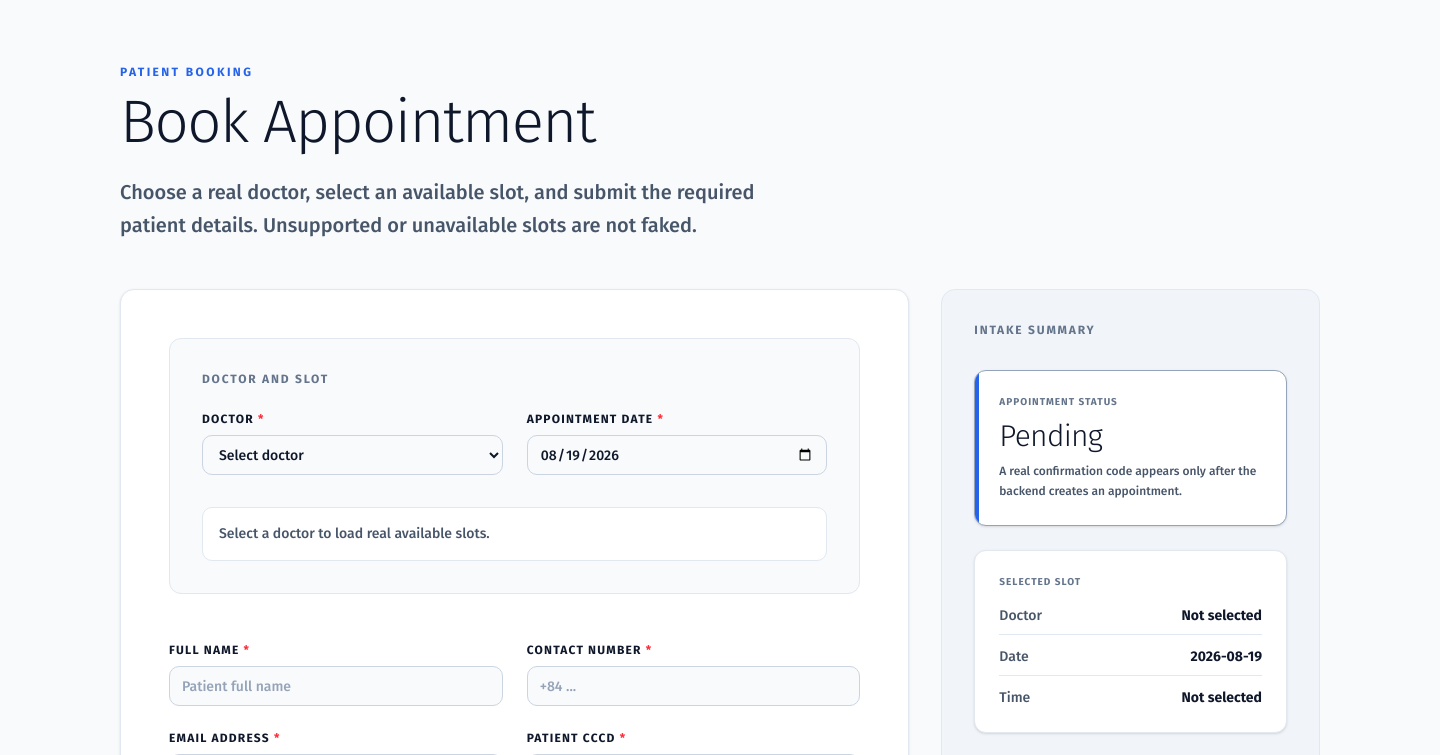
PublicBookingPage › shows default slot loading errors for non-error rejections
The image size is (1440, 755).
Select "Dr. Lan Tran - Cardiology" in the dropdown labelled "Doctor *" at (352, 455), box [202,435,503,475]
(page scrolled)
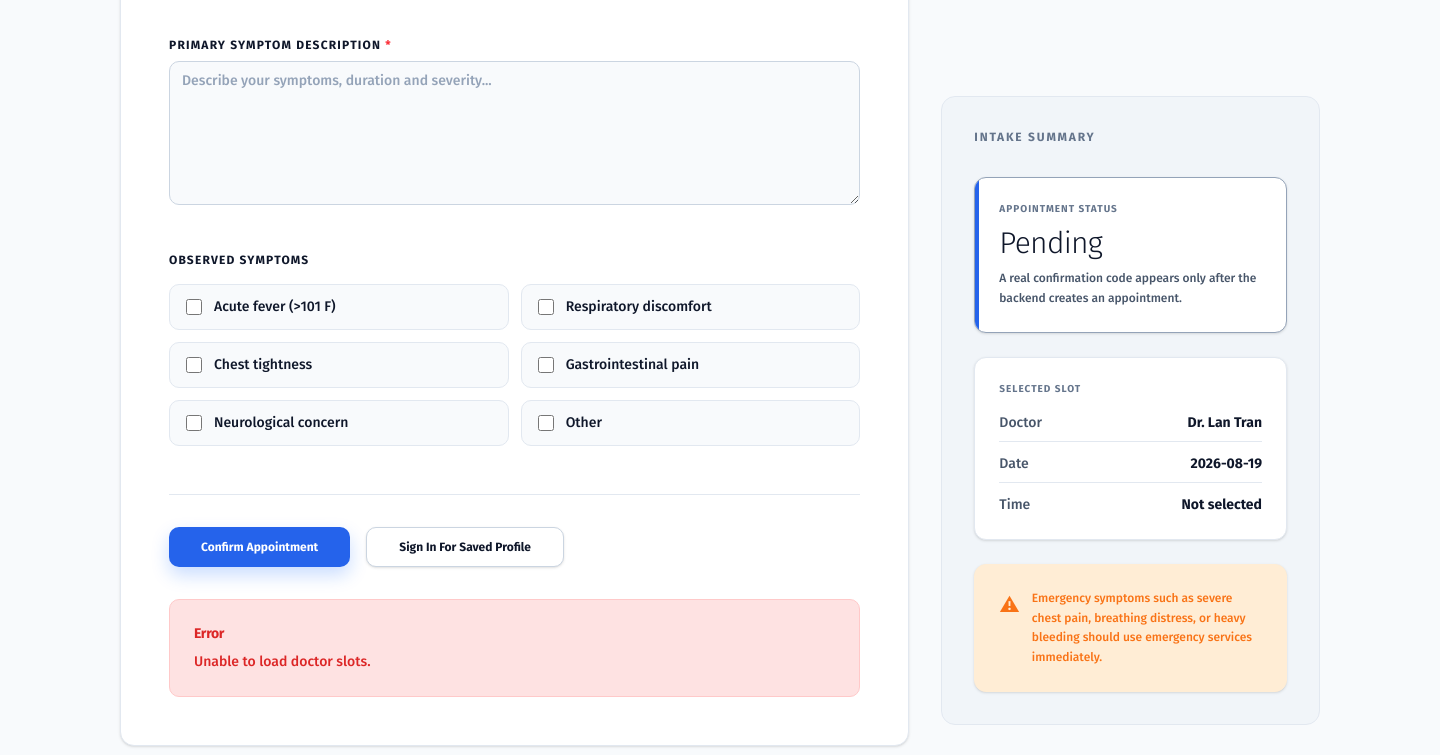
Result: the message shows "Unable to load doctor slots." at [194,653,370,670]
